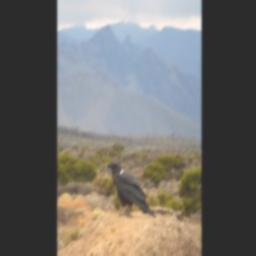Crow: (106, 160, 158, 220)
